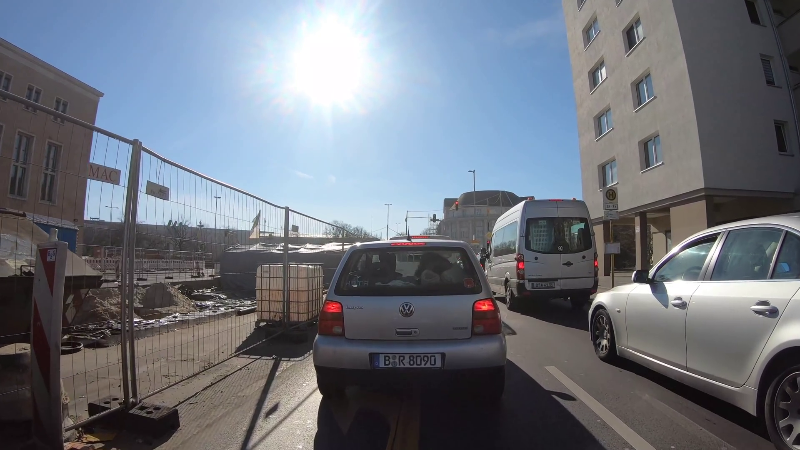Plate: (368, 350, 445, 370), (526, 279, 558, 291)
